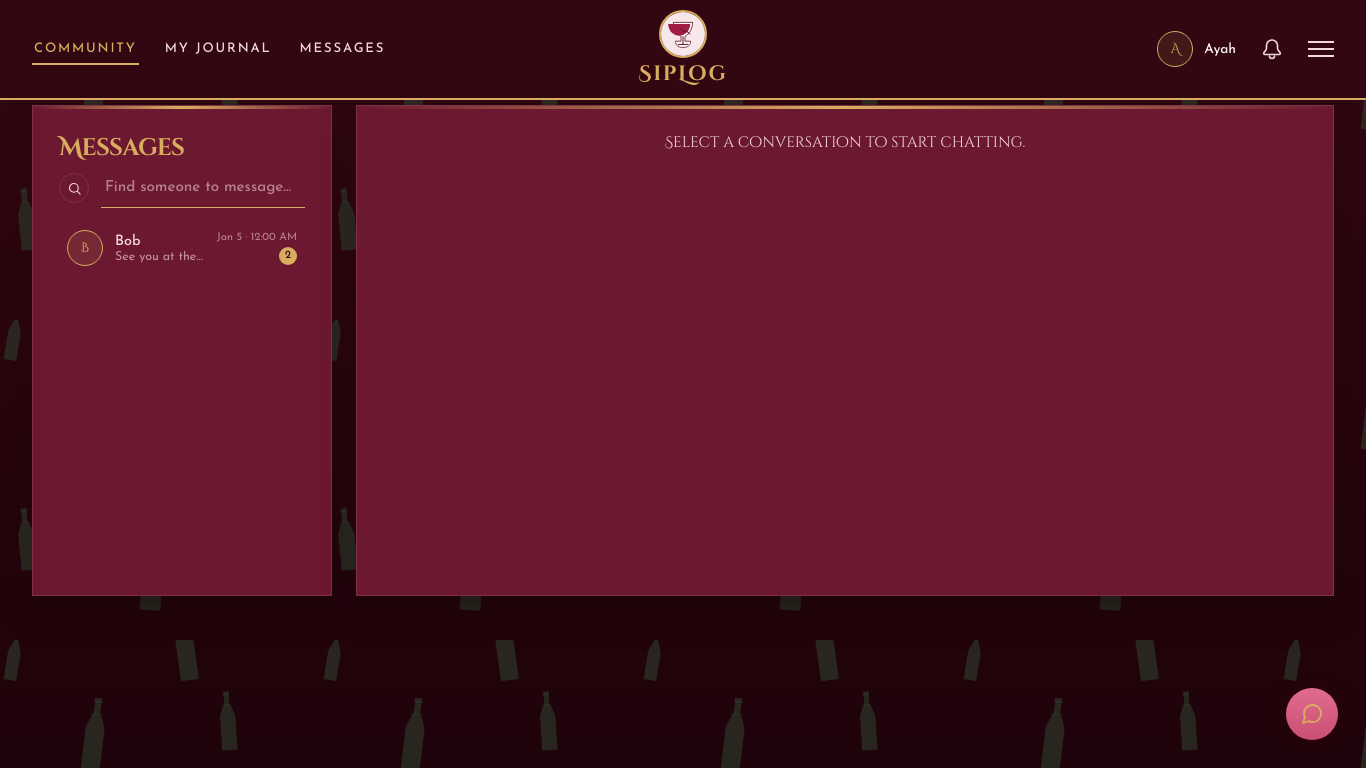
Test: ChatPage thread › does not send a blank message
Step 1. Click the text "Bob" → [128, 241], box [115,234,140,248]
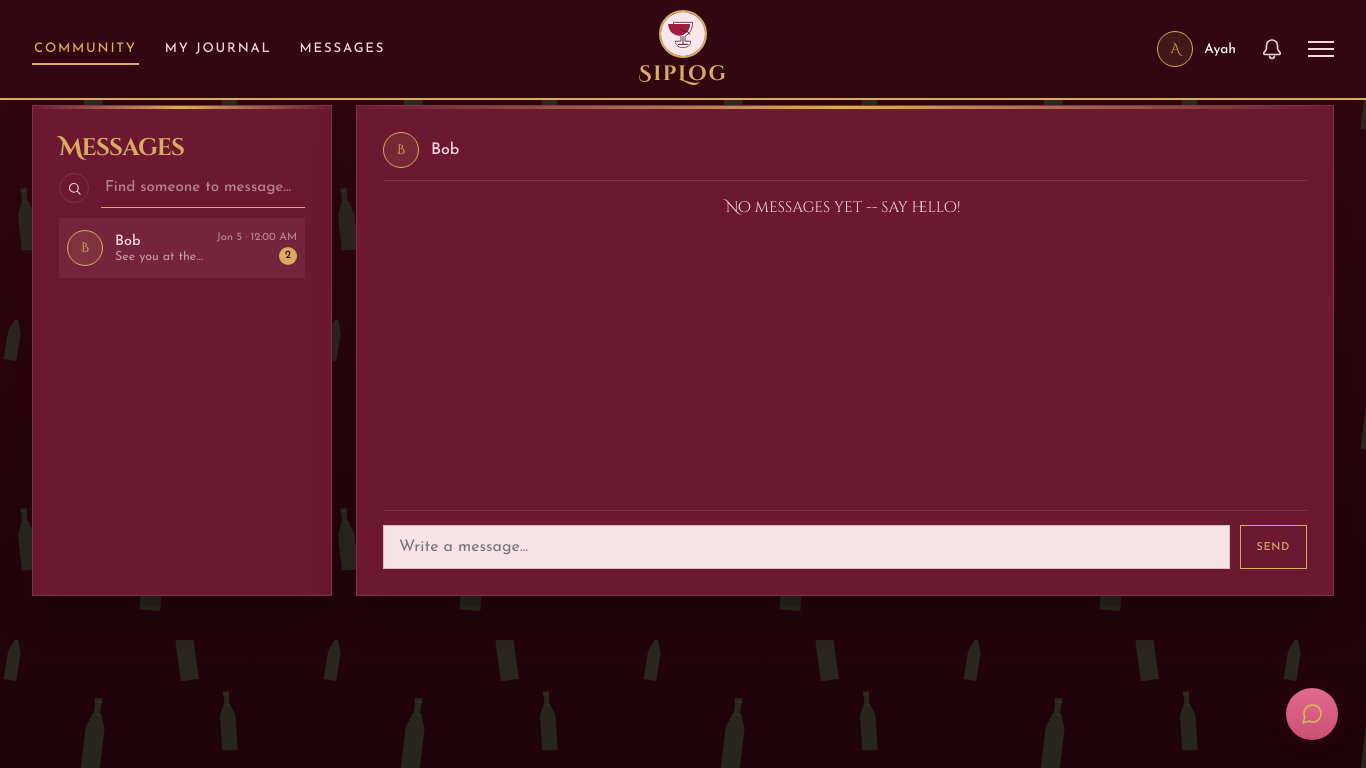
Expected: the button "Send" is disabled, [1240,525,1307,569]
